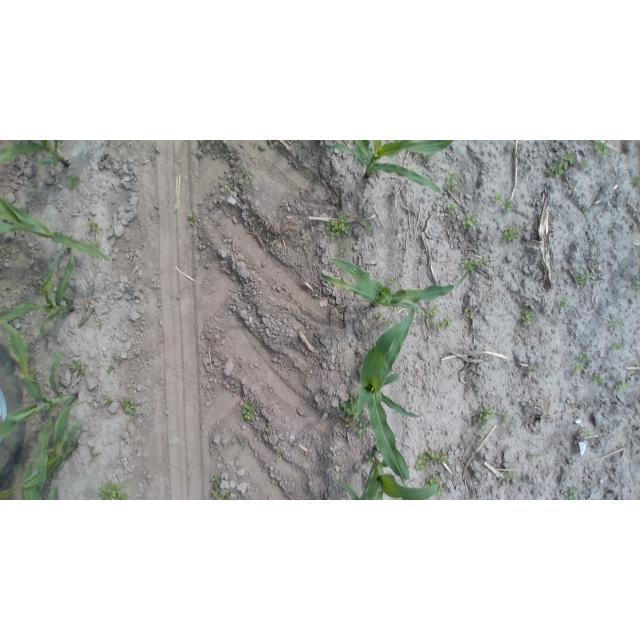Maize: (344, 300, 428, 488), (1, 319, 84, 497), (321, 254, 467, 313), (0, 400, 84, 500), (0, 195, 112, 262), (0, 248, 78, 336), (331, 141, 454, 194), (343, 445, 444, 500), (0, 140, 68, 168)
Weeds: (547, 150, 576, 178), (415, 449, 450, 472), (326, 213, 353, 242), (97, 481, 130, 500), (210, 474, 231, 500), (340, 393, 360, 418), (476, 405, 497, 428), (459, 257, 489, 273), (500, 224, 522, 244), (118, 397, 138, 417), (445, 171, 463, 193), (241, 400, 258, 423), (209, 485, 235, 500), (350, 419, 369, 439), (461, 212, 479, 231), (572, 267, 590, 285), (421, 304, 439, 322), (426, 475, 445, 492), (593, 141, 612, 158), (70, 359, 87, 378), (606, 316, 627, 331), (67, 174, 84, 191), (521, 307, 537, 325), (436, 317, 453, 332), (501, 469, 517, 484), (614, 378, 628, 395), (84, 221, 102, 234), (570, 362, 586, 376), (187, 211, 199, 228), (557, 297, 571, 311), (360, 218, 373, 233), (578, 350, 591, 364), (609, 340, 624, 352), (88, 447, 99, 463), (567, 486, 580, 499), (502, 199, 514, 213), (446, 202, 458, 216), (490, 190, 502, 204), (577, 427, 591, 439), (591, 372, 603, 385), (339, 244, 351, 256), (236, 435, 247, 448), (501, 412, 512, 425), (527, 452, 540, 463), (113, 352, 124, 364), (87, 238, 99, 249), (104, 396, 115, 407), (464, 309, 475, 320), (275, 450, 286, 461), (523, 365, 535, 375), (385, 319, 395, 330), (387, 277, 398, 287), (631, 176, 639, 189), (240, 170, 248, 183), (105, 364, 115, 374), (265, 425, 275, 435), (631, 277, 638, 291), (582, 160, 591, 169), (234, 381, 242, 391), (374, 311, 382, 319), (582, 208, 589, 216), (57, 338, 64, 346), (225, 186, 232, 193)
